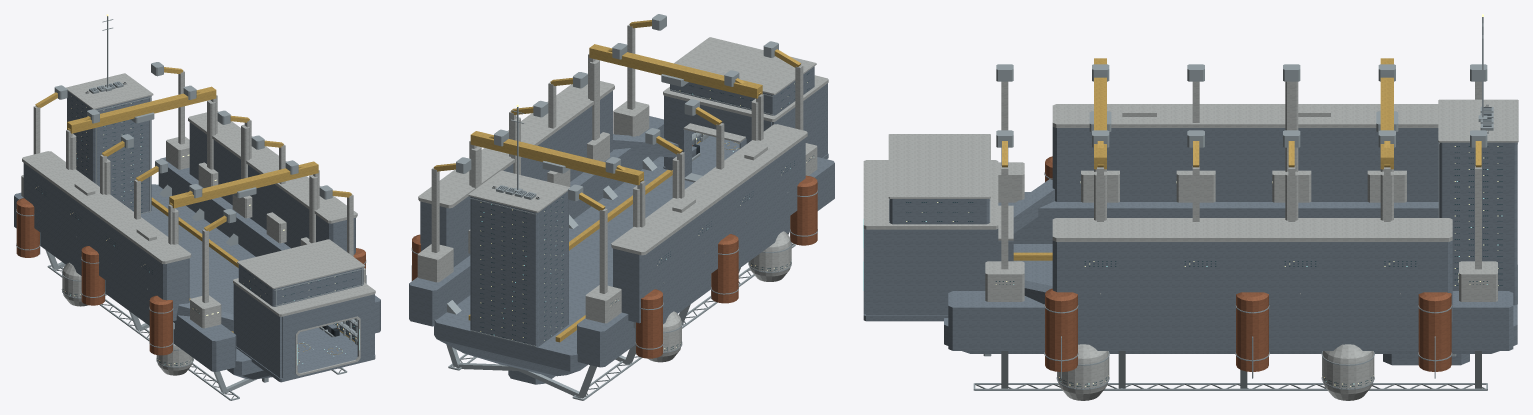
File: league-yard.glb
3 views of the same model, side by side, from view 1: azimuth 30°, elevation 25°; view 2: azimuth 150°, elevation 25°; view 3: azimuth 270°, elevation 25° (orthographic). The views are drawn at different scales.
Parts seen in each view (by area): view 1: league-yard / hull, league-yard / armor, league-yard / metal, league-yard / ochre, league-yard / copper, league-yard / glass; view 2: league-yard / hull, league-yard / armor, league-yard / metal, league-yard / ochre, league-yard / copper, league-yard / glass; view 3: league-yard / hull, league-yard / armor, league-yard / metal, league-yard / copper, league-yard / ochre, league-yard / glass.
Boxes of the visible parts, bbox=[...] form: league-yard / hull: bbox=[14, 91, 380, 382]; league-yard / armor: bbox=[21, 71, 375, 375]; league-yard / metal: bbox=[16, 16, 366, 400]; league-yard / ochre: bbox=[35, 67, 354, 363]; league-yard / copper: bbox=[16, 198, 365, 355]; league-yard / glass: bbox=[36, 100, 354, 365]; league-yard / hull: bbox=[409, 66, 834, 384]; league-yard / armor: bbox=[417, 24, 828, 362]; league-yard / metal: bbox=[411, 14, 817, 400]; league-yard / ochre: bbox=[434, 20, 800, 342]; league-yard / copper: bbox=[412, 145, 817, 358]; league-yard / glass: bbox=[480, 73, 813, 350]; league-yard / hull: bbox=[863, 127, 1517, 365]; league-yard / armor: bbox=[863, 81, 1518, 400]; league-yard / metal: bbox=[889, 17, 1517, 400]; league-yard / copper: bbox=[1045, 156, 1451, 371]; league-yard / ochre: bbox=[1002, 58, 1481, 260]; league-yard / glass: bbox=[906, 146, 1502, 386].
Size of the model in its own units: 91.86 by 98.47 by 172.
Materials: 9 (4 with a texture image).
